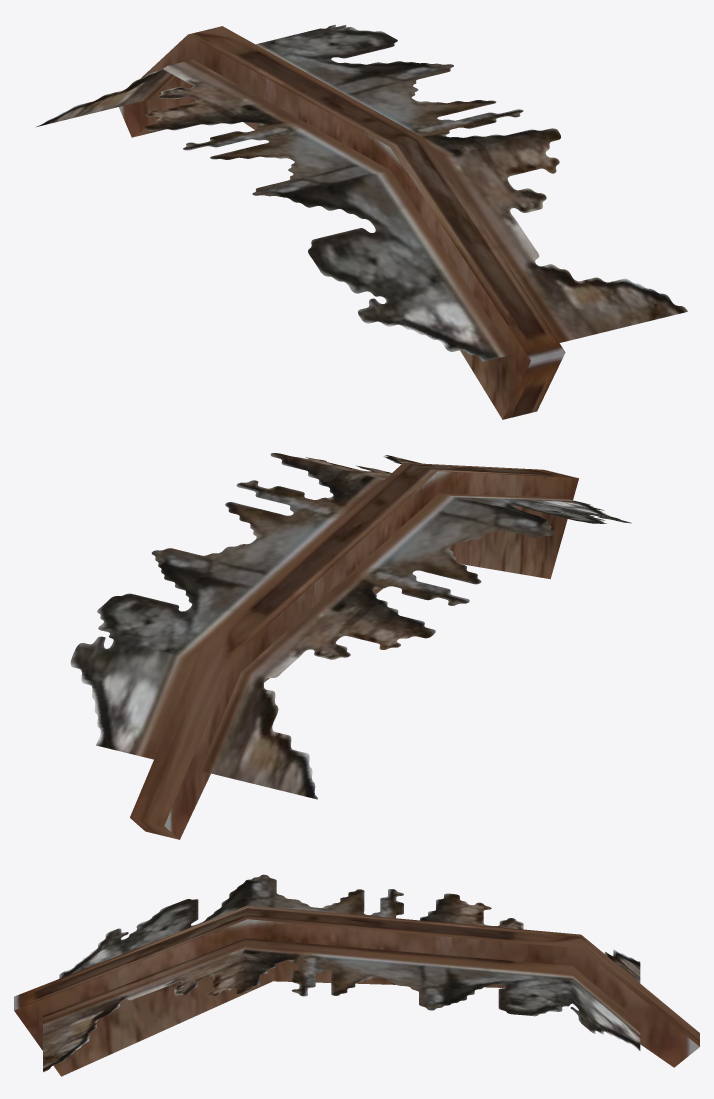
Rendered from junk3_hdtex.glb.
3 renders of one model, top to bottom at view 1: azimuth 30°, elevation 25°; view 2: azimuth 150°, elevation 25°; view 3: azimuth 270°, elevation 25°, orthographic. The views are drawn at different scales.
Visible parts, largest first — view 1: Junk3; view 2: Junk3; view 3: Junk3.
Boxes of the visible parts, box(x1,y1,x2,y2) form: Junk3: box(35, 24, 687, 419); Junk3: box(70, 453, 631, 839); Junk3: box(14, 874, 699, 1076).
Size of the model in its own units: 5.45 by 3.06 by 12.06.
Materials: 1 (1 with a texture image).
